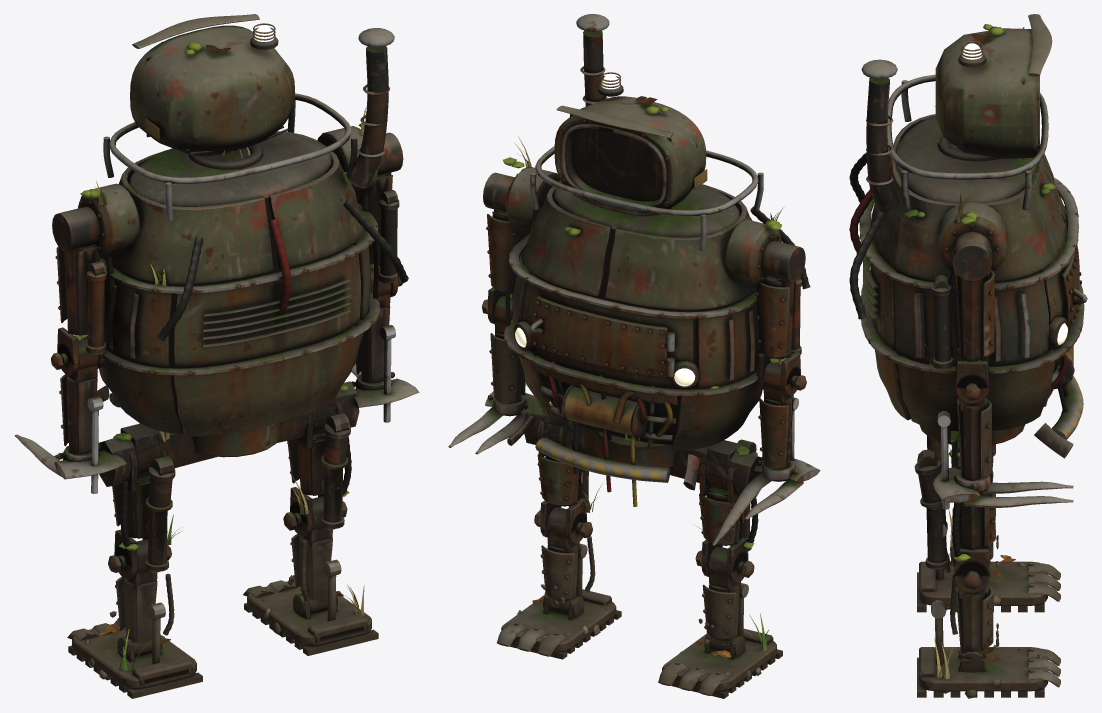
File: gloom_hauler_hi.glb
3 views of the same model, side by side, from view 1: azimuth 30°, elevation 25°; view 2: azimuth 150°, elevation 25°; view 3: azimuth 270°, elevation 25° (orthographic). The views are drawn at different scales.
Parts seen in each view (by area): view 1: torso_m, head_m, knee0_m, knee1_m, pelvis_m, arm0_m, fore0_m, hip0_m, fore1_m, hip1_m, arm1_m, ramc_elbow0 (+9 smaller); view 2: torso_m, head_m, knee1_m, knee0_m, pelvis_m, arm0_m, fore0_m, fore1_m, hip0_m, arm1_m, hip1_m, ramc_elbow0; view 3: torso_m, head_m, knee1_m, arm1_m, fore1_m, knee0_m, hip1_m, ramc_elbow1, ramc_knee1, ramc_hip1, pelvis_m, ramr_elbow1 (+1 smaller).
Boxes of the visible parts, box(x1,y1,x2,y2) form: torso_m: box(78, 28, 408, 436); head_m: box(130, 14, 294, 155); knee0_m: box(67, 514, 202, 698); knee1_m: box(243, 477, 378, 655); pelvis_m: box(98, 381, 359, 492); arm0_m: box(51, 181, 114, 375); fore0_m: box(14, 334, 126, 479); hip0_m: box(108, 423, 171, 579); fore1_m: box(351, 263, 419, 407); hip1_m: box(283, 385, 351, 536); arm1_m: box(356, 108, 403, 297); ramc_elbow0: box(86, 261, 106, 354); torso_m: box(504, 14, 810, 506); head_m: box(554, 72, 707, 216); knee1_m: box(497, 485, 621, 659); knee0_m: box(658, 524, 782, 698); pelvis_m: box(524, 401, 762, 503); arm0_m: box(755, 207, 806, 395); fore0_m: box(712, 358, 820, 545); fore1_m: box(448, 293, 537, 454); hip0_m: box(695, 440, 758, 583); arm1_m: box(482, 136, 531, 323); hip1_m: box(534, 401, 592, 544); ramc_elbow0: box(791, 276, 802, 354); torso_m: box(849, 59, 1087, 458); head_m: box(935, 14, 1052, 159); knee1_m: box(917, 509, 1060, 698); arm1_m: box(949, 192, 994, 403); fore1_m: box(933, 360, 1073, 507); knee0_m: box(917, 445, 1060, 612); hip1_m: box(950, 431, 995, 592); ramc_elbow1: box(931, 275, 953, 369); ramc_knee1: box(925, 505, 948, 569); ramc_hip1: box(914, 449, 942, 507); pelvis_m: box(919, 424, 1024, 496); ramr_elbow1: box(937, 411, 950, 509).
Bounding box in the file's own units: 1.45 × 2.47 × 0.8489.
Materials: 2 (1 with a texture image).
